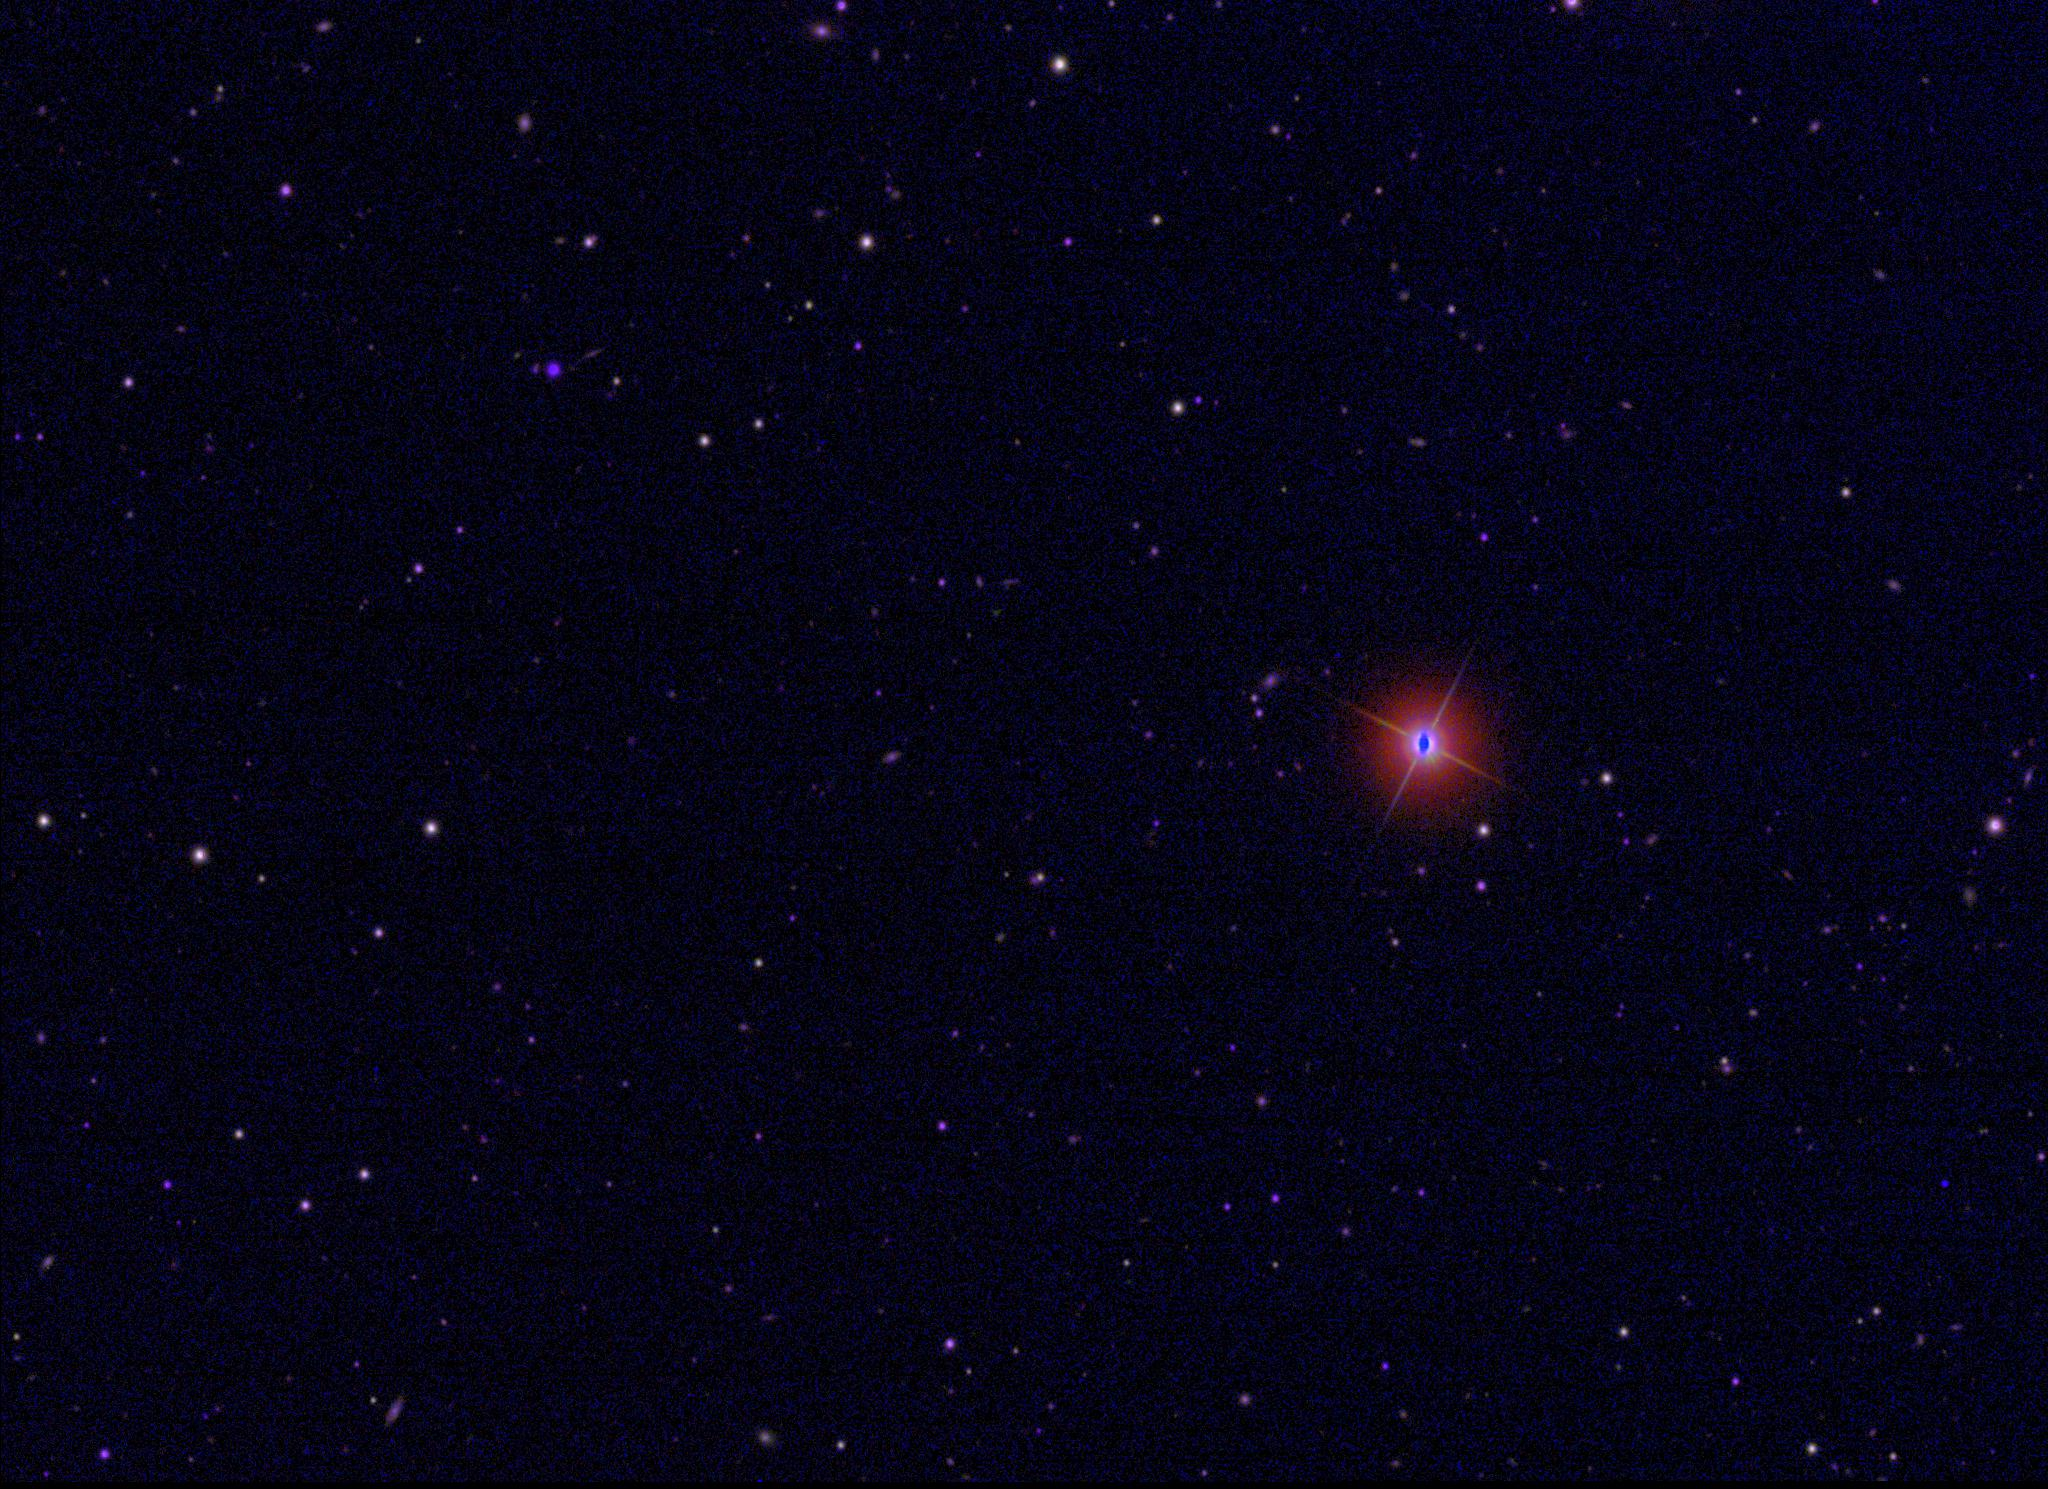L: (1938, 1176, 1953, 1190)
